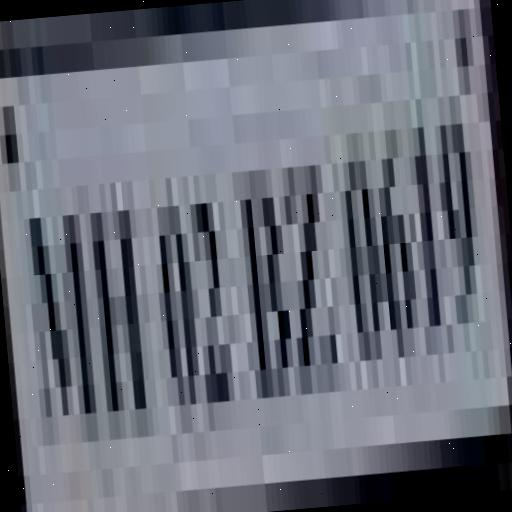number plate: (0, 9, 505, 512)
